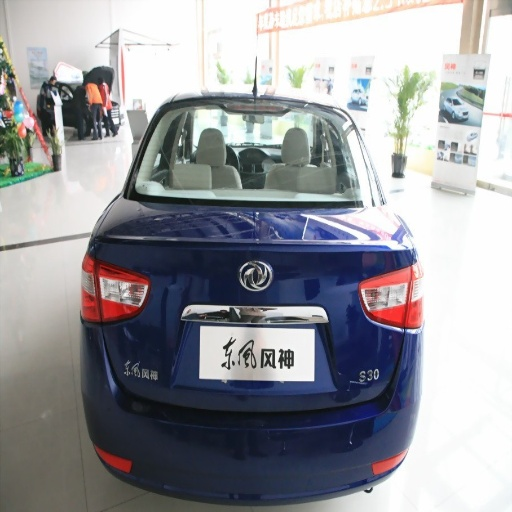_background_: (110, 347, 401, 425)
back_bumper: (82, 322, 424, 511)
tailgate: (118, 200, 410, 417)
